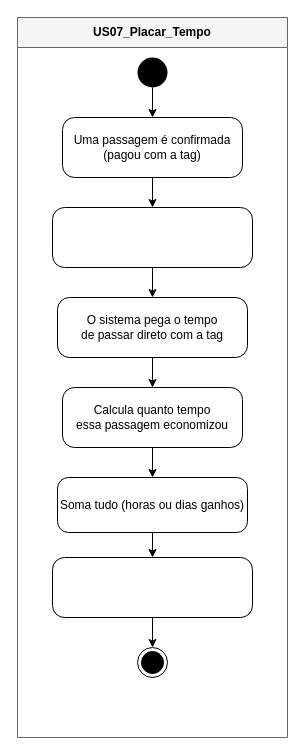
The diagram is 305 pixels wide and 755 high, and some of its shapes have lost their labels. Here are the shapes that lost their labels. From the top down, the centre of each, then its label:
At (x=152, y=237): "O sistema pega o tempo médio na fila do pedágio manual".
At (x=152, y=587): "Atualiza na hora o placar na tela do usuário".
